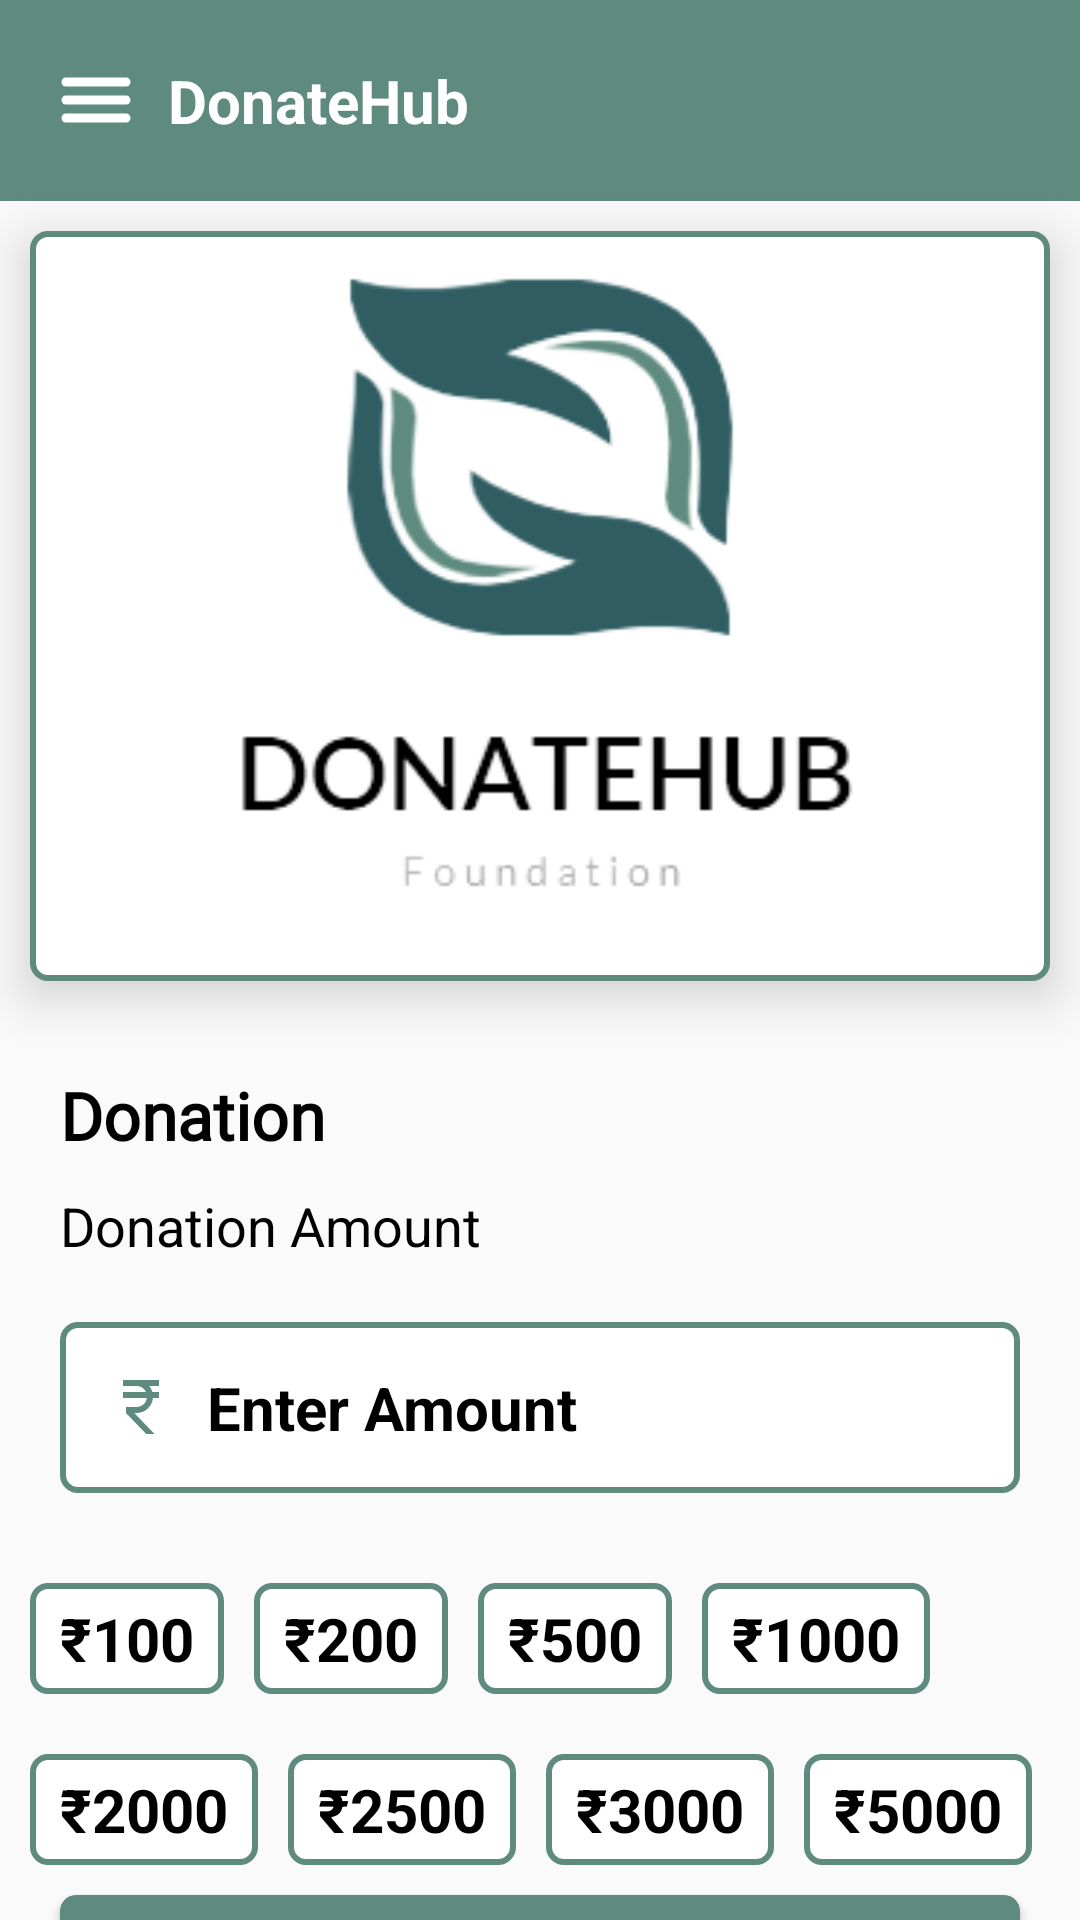

Where icons sit on this 1080*1920 app screen, as (x1, y1, x2, y2):
menu: (61, 77, 131, 123)
